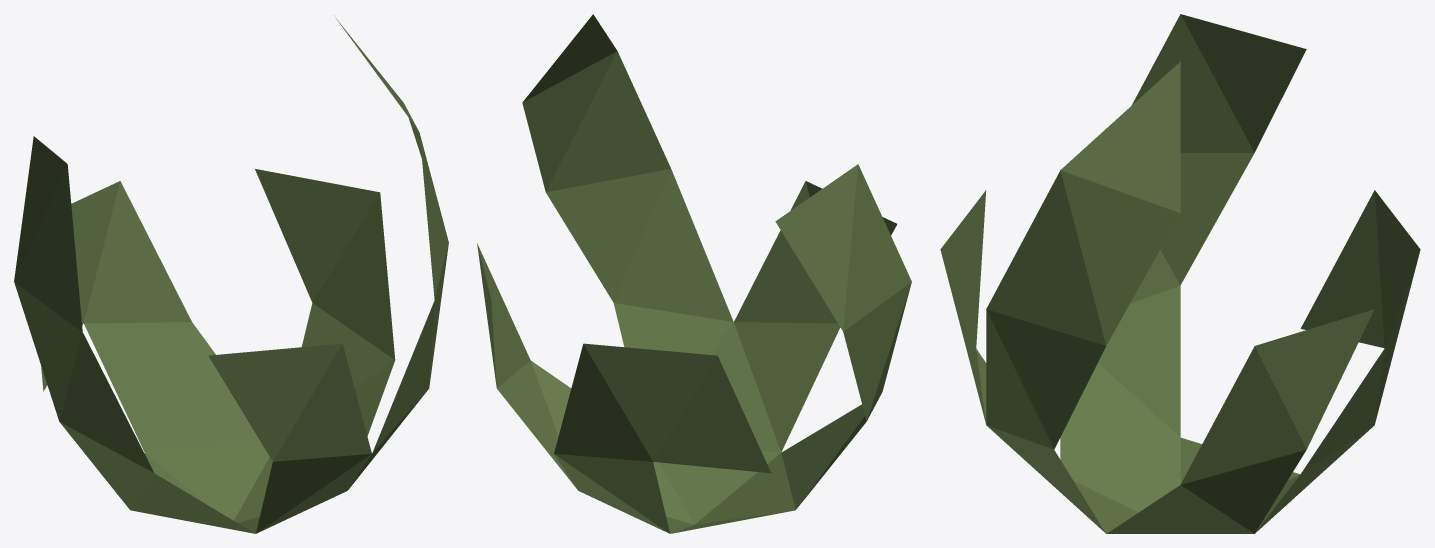
Rendered from shrub.glb.
3 views of the same model, side by side, from view 1: azimuth 30°, elevation 25°; view 2: azimuth 150°, elevation 25°; view 3: azimuth 270°, elevation 25° (orthographic). The views are drawn at different scales.
Visible parts, largest first — view 1: Icosphere; view 2: Icosphere; view 3: Icosphere.
Boxes of the visible parts, x1,y1,x2,y2 form: Icosphere: [14, 17, 448, 533]; Icosphere: [477, 14, 911, 533]; Icosphere: [940, 14, 1420, 533].
Size of the model in its own units: 1.33 by 1.69 by 1.4.
